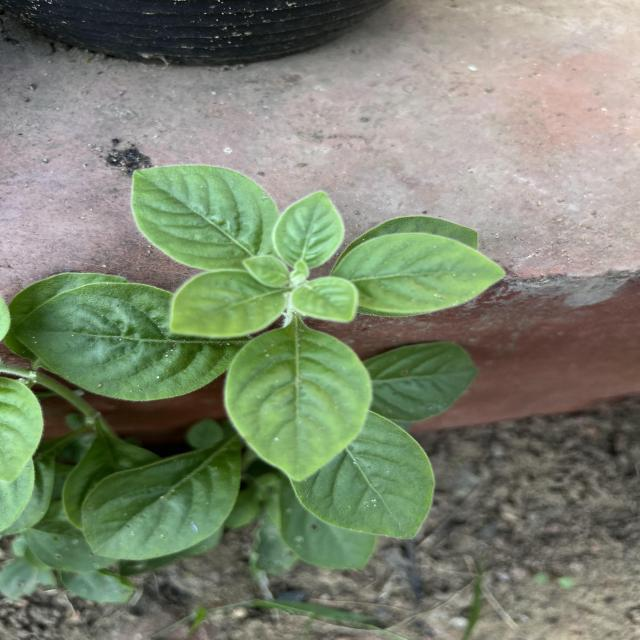Aerva lanata: (10, 280, 228, 403), (287, 408, 438, 542), (125, 160, 282, 272)
